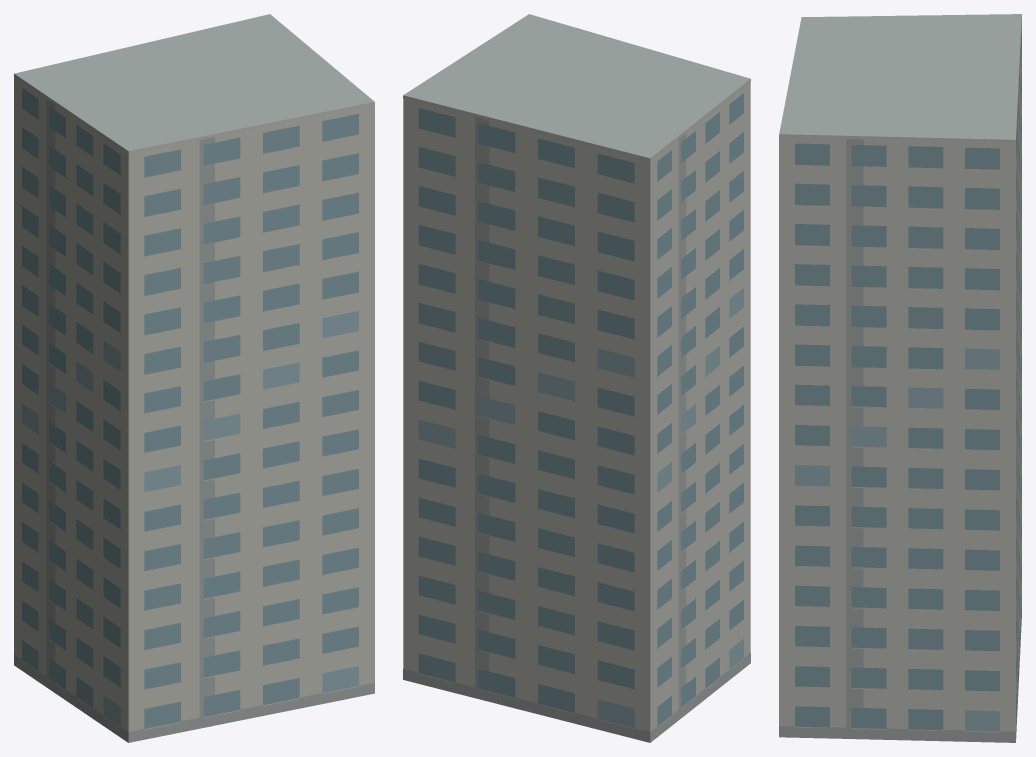
Rendered from residential-a6b9b50c-c21e-4b40-a37d-0158d93ae2b9.glb.
3 views of the same model, side by side, from view 1: azimuth 30°, elevation 25°; view 2: azimuth 150°, elevation 25°; view 3: azimuth 270°, elevation 25° (orthographic). The views are drawn at different scales.
Parts seen in each view (by area): view 1: residential-a6b9b50c-c21e-4b40-a37d-0158d93ae2b9.tmp; view 2: residential-a6b9b50c-c21e-4b40-a37d-0158d93ae2b9.tmp; view 3: residential-a6b9b50c-c21e-4b40-a37d-0158d93ae2b9.tmp.
Part boxes in pixels (x1,y1,x2,y2): residential-a6b9b50c-c21e-4b40-a37d-0158d93ae2b9.tmp: (14,14,374,742); residential-a6b9b50c-c21e-4b40-a37d-0158d93ae2b9.tmp: (403,14,750,742); residential-a6b9b50c-c21e-4b40-a37d-0158d93ae2b9.tmp: (779,14,1021,742).
Bounding box in the file's own units: 20.6 × 46 × 16.79.
